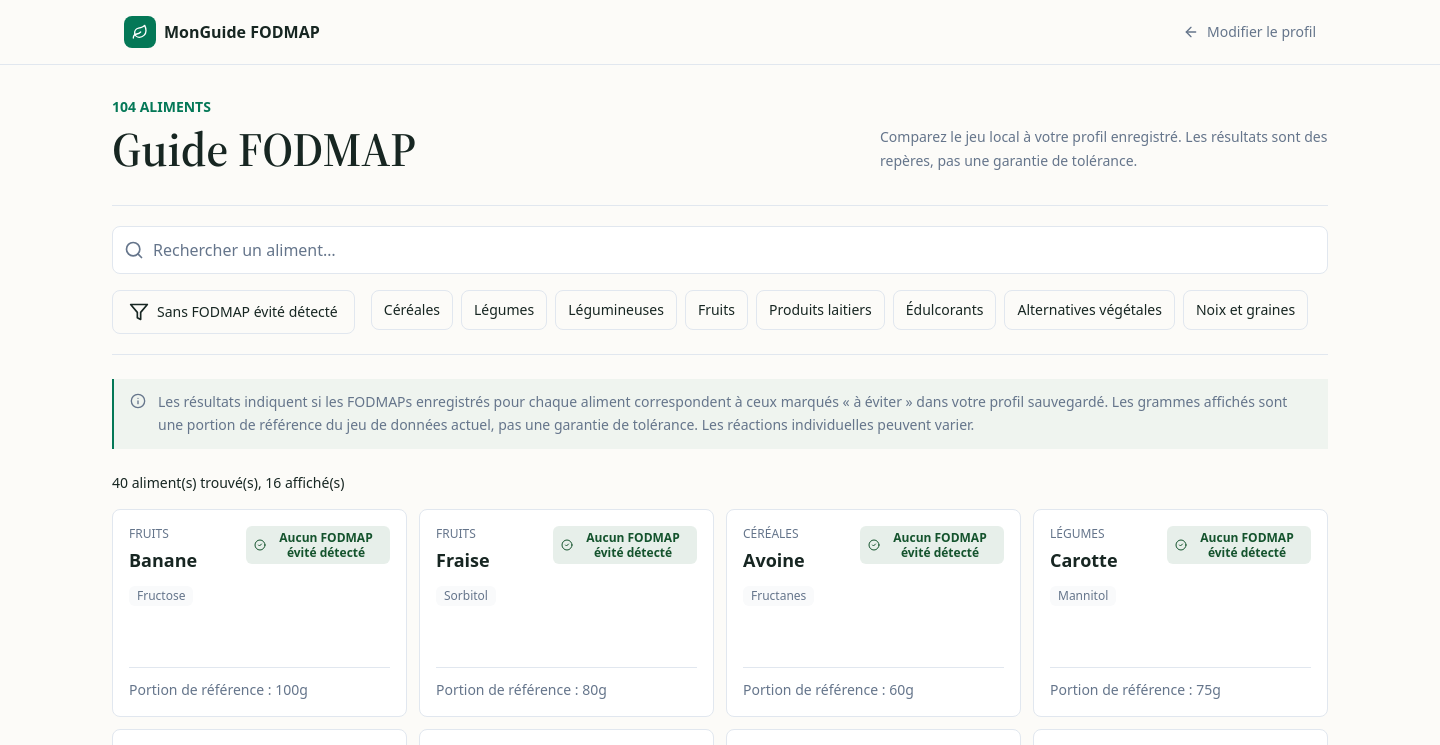
Scenario: Explorer workflow › updates the polite live result count after a search
The width and height of the screenshot is (1440, 745).
Type "avoine" into the search field named "Rechercher des aliments par nom" at (720, 250), box [112,226,1328,274]
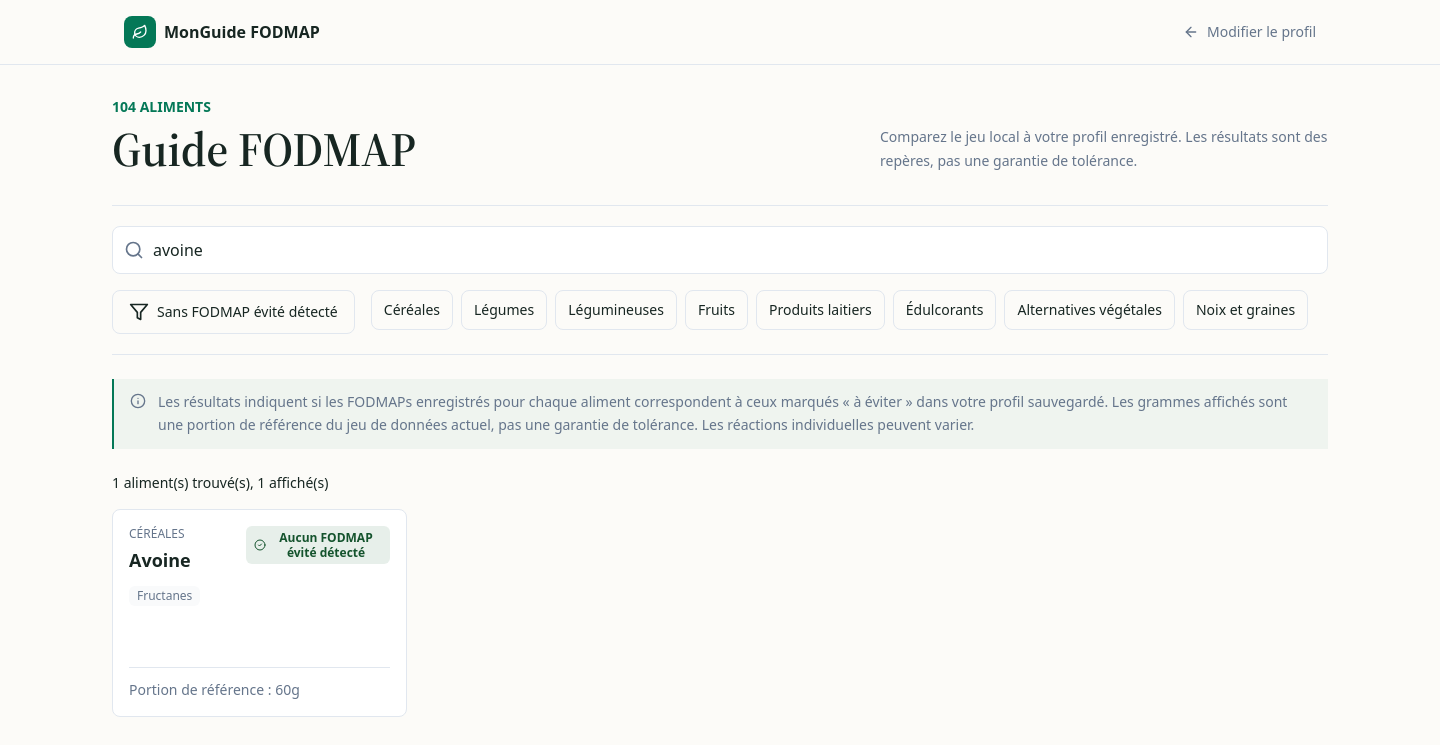
Check: the heading "Avoine" is shown, box [129,546,191,574]
Check: the message shows "1 aliment(s) trouvé(s)", box [112,472,250,492]
